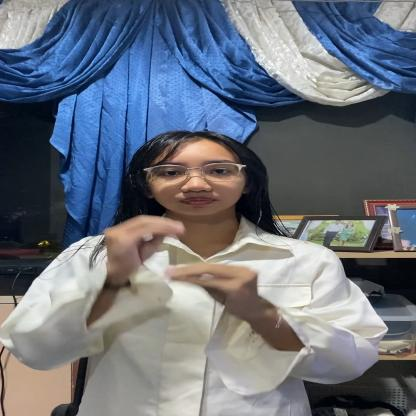Fix: (87, 199, 276, 339)
